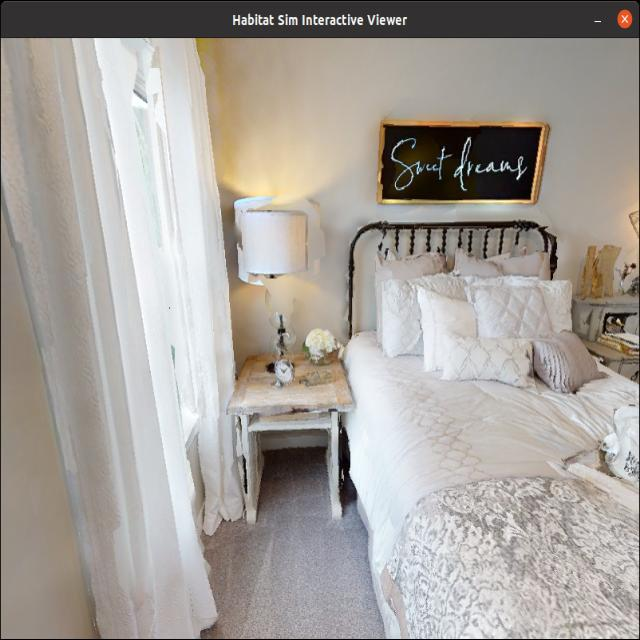bed: (334, 213, 640, 640)
table: (232, 329, 354, 536)
